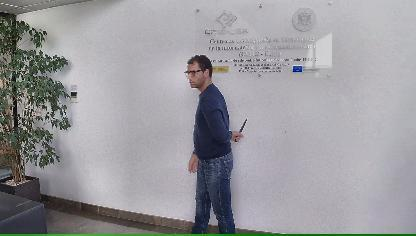knife: (234, 114, 249, 142)
